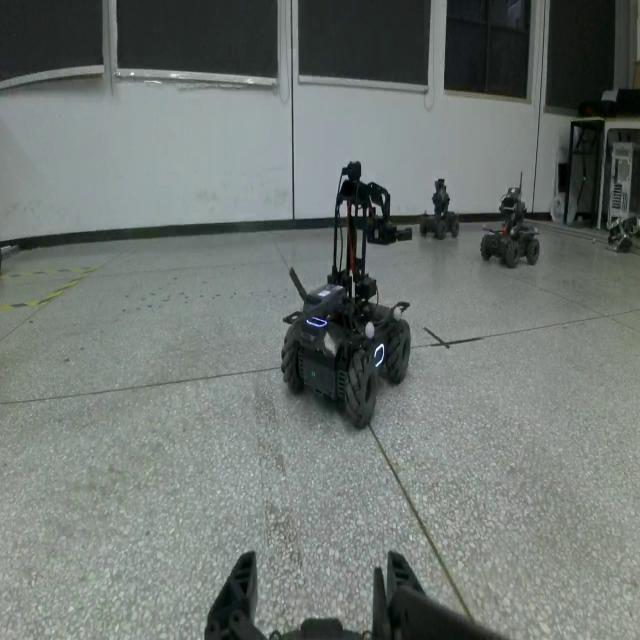ep: (271, 161, 417, 431)
s1: (481, 171, 541, 271), (416, 175, 461, 240)
